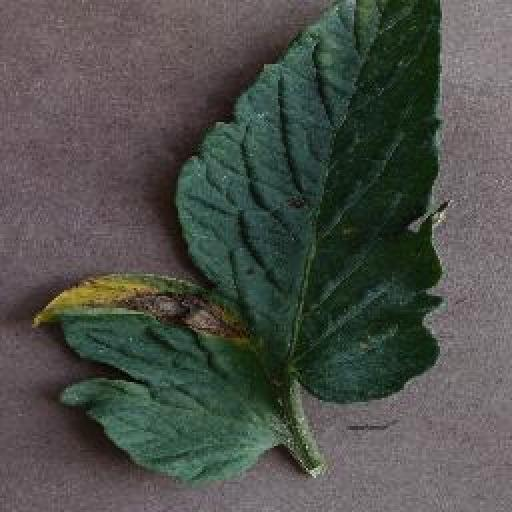disease_tomato: (32, 0, 450, 484)
